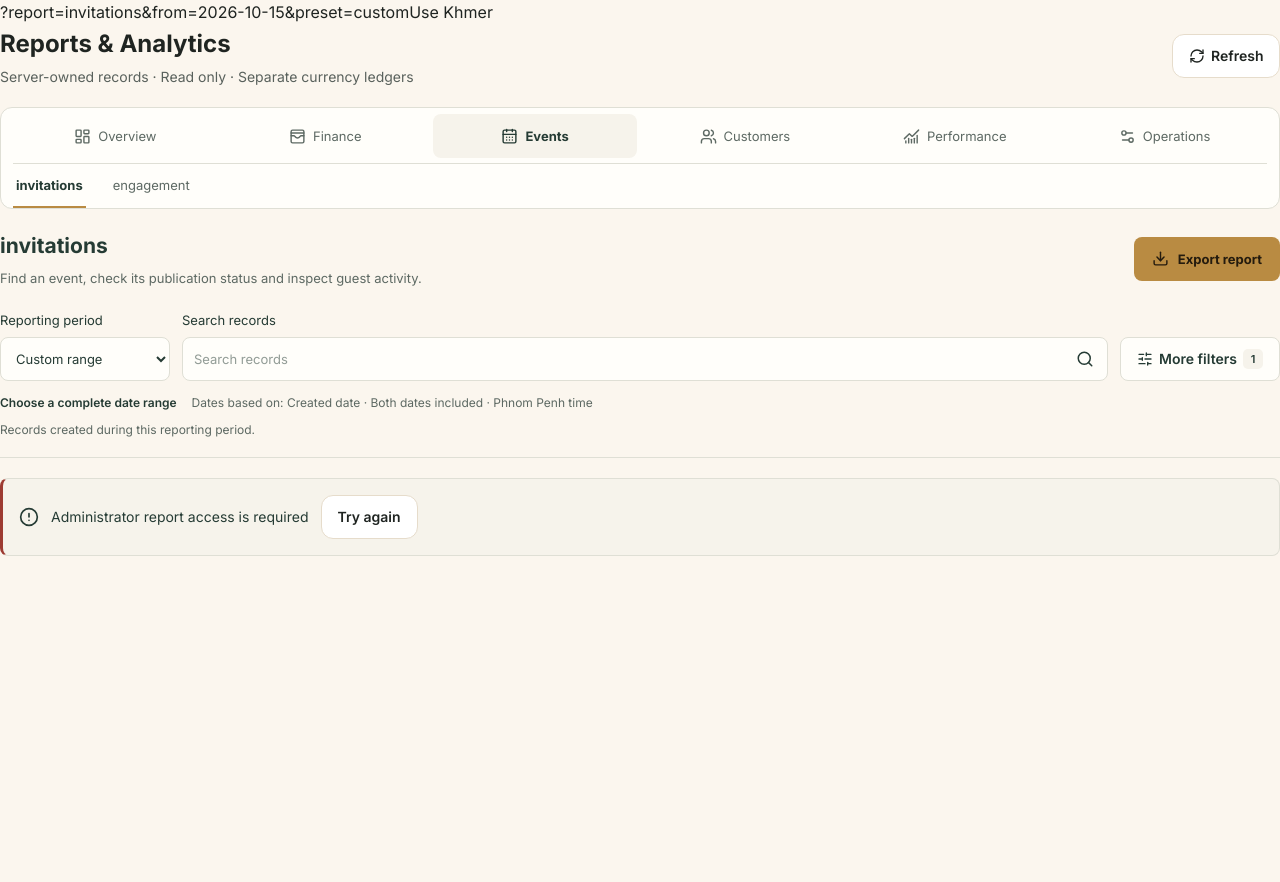
Test: active Reports route › shows administrator permission errors and rejects misleading partial URL periods
This screenshot has width=1280, height=882.
expect the text "Administrator report access is required" is shown: met, box [51, 508, 308, 525]
What coordinates should you click on to do the following:
click the button "Export report"
I would click on:
 (1207, 259)
Its box is [1134, 237, 1279, 281].
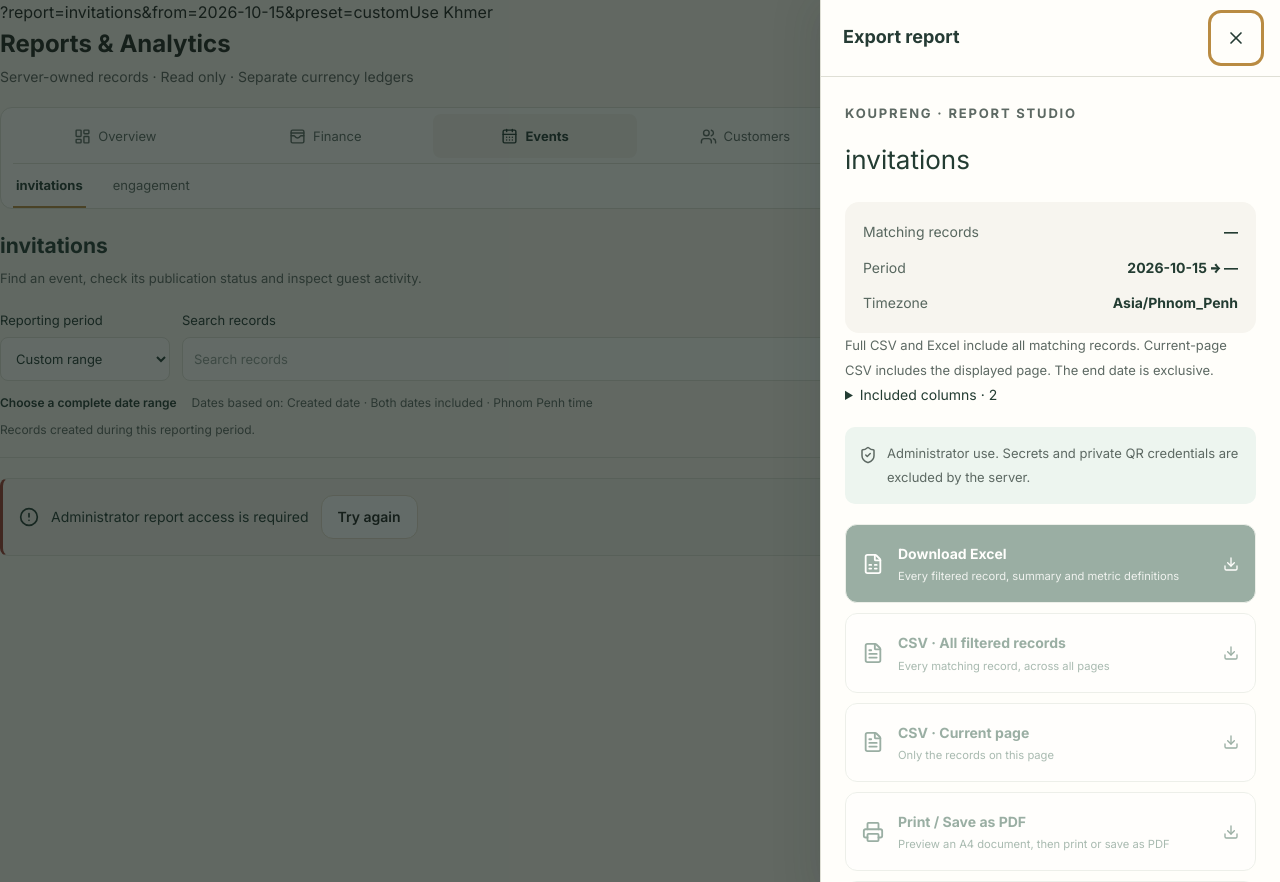
expect the button "Download Excel" is disabled: met, box [845, 524, 1256, 603]
